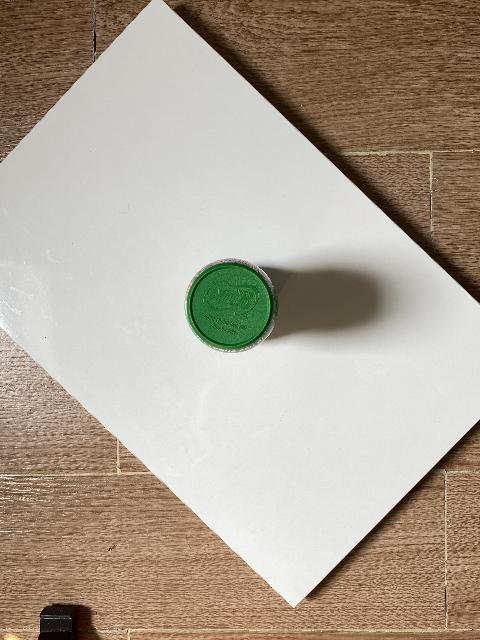milo: (184, 259, 278, 354)
